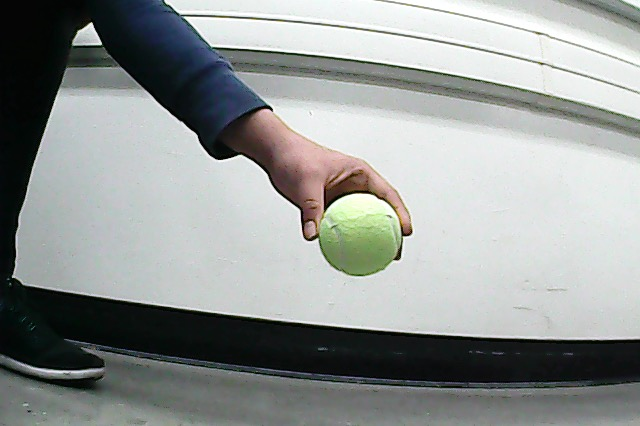ball: (314, 190, 406, 279)
